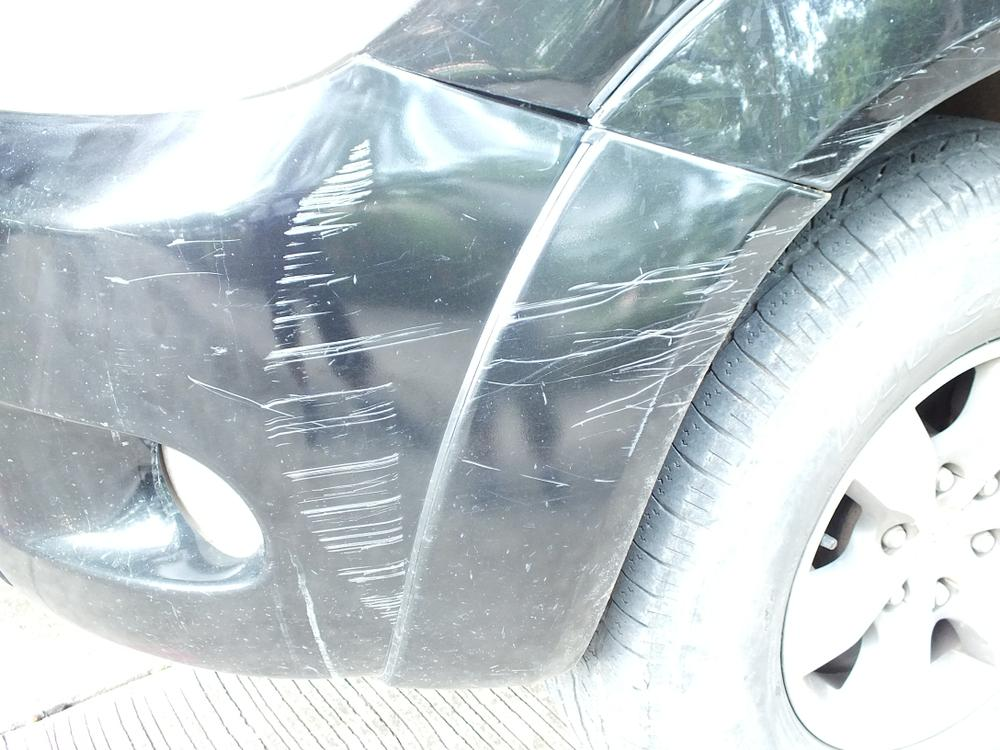scratch: (258, 130, 468, 636), (463, 220, 804, 497), (796, 16, 1000, 183)
